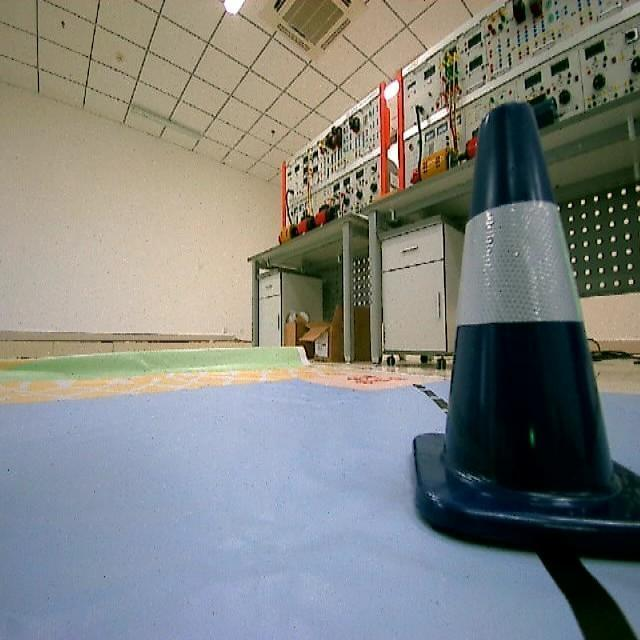obstacle: (410, 105, 640, 571)
